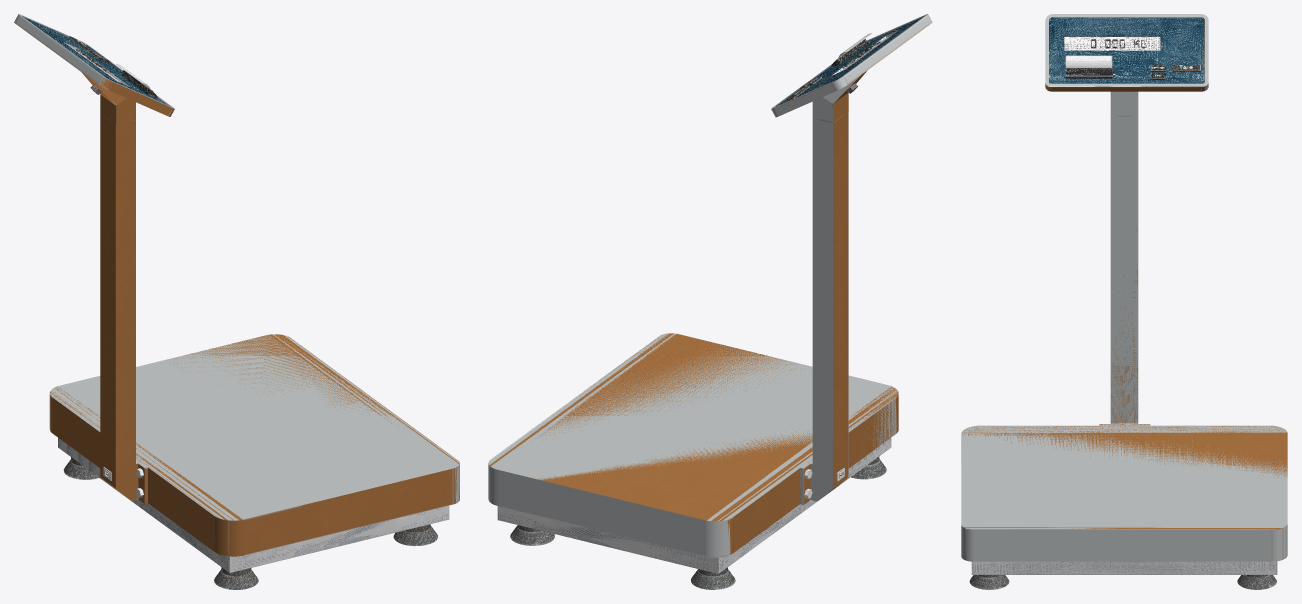
File: bascula.fbx
The picture shows the model from 3 angles, left to right: view 1: azimuth 30°, elevation 25°; view 2: azimuth 150°, elevation 25°; view 3: azimuth 270°, elevation 25°; orthographic projection. The views are drawn at different scales.
Visible parts, largest first — view 1: ASSET_Joined; view 2: ASSET_Joined; view 3: ASSET_Joined.
Part boxes in pixels (x1,y1,x2,y2): ASSET_Joined: (14,14,459,589); ASSET_Joined: (488,14,932,589); ASSET_Joined: (961,14,1287,589).
Bounding box in the file's own units: 459 × 699 × 462.
Materials: 1 (1 with a texture image).
